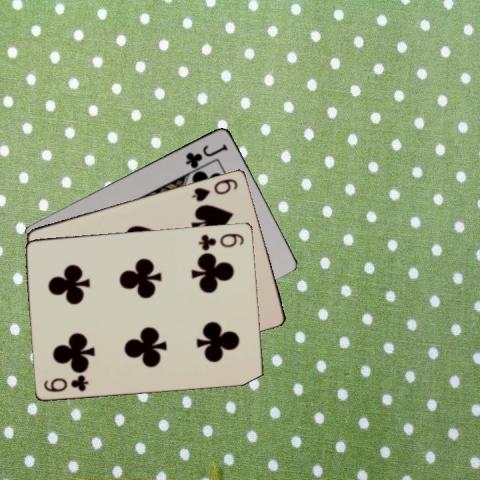6c: (41, 372, 91, 394), (196, 230, 245, 251)
6s: (189, 175, 239, 203)
Jc: (183, 140, 229, 168)
